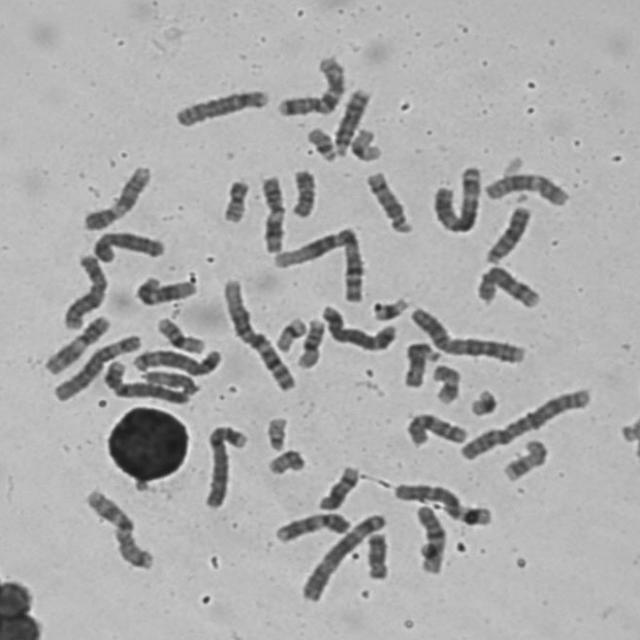A1: (215, 272, 302, 394), (266, 224, 366, 305)
A2: (457, 386, 595, 463), (407, 304, 527, 366)
A3: (299, 512, 389, 604), (431, 163, 483, 236)
B4: (100, 359, 191, 408), (202, 422, 252, 511)
B5: (319, 303, 399, 354), (130, 346, 223, 378)
C10: (413, 502, 448, 577), (404, 411, 469, 450)
C11: (42, 313, 112, 377), (260, 173, 285, 255)
C12: (482, 170, 575, 210), (133, 273, 203, 309)
C6: (52, 332, 142, 404), (389, 481, 494, 531)
C7: (76, 484, 163, 576), (273, 53, 351, 120)
C8: (172, 88, 272, 130), (472, 262, 543, 311)
C9: (82, 163, 154, 233), (272, 511, 354, 545)
D13: (483, 203, 536, 266), (332, 88, 375, 158)
D14: (359, 169, 416, 236), (315, 464, 363, 514)
D15: (400, 339, 442, 390), (138, 368, 202, 398)
E16: (154, 316, 209, 357), (294, 318, 327, 372)
E17: (499, 438, 550, 482), (429, 362, 464, 408)
E18: (288, 168, 319, 220), (362, 530, 390, 584)
F19: (349, 125, 389, 163), (272, 316, 308, 355)
F20: (216, 176, 254, 228), (265, 446, 307, 476)
G21: (369, 293, 409, 323), (468, 387, 498, 418)
G22: (300, 125, 340, 166), (264, 414, 292, 456)
X: (59, 250, 110, 333), (89, 227, 170, 266)
